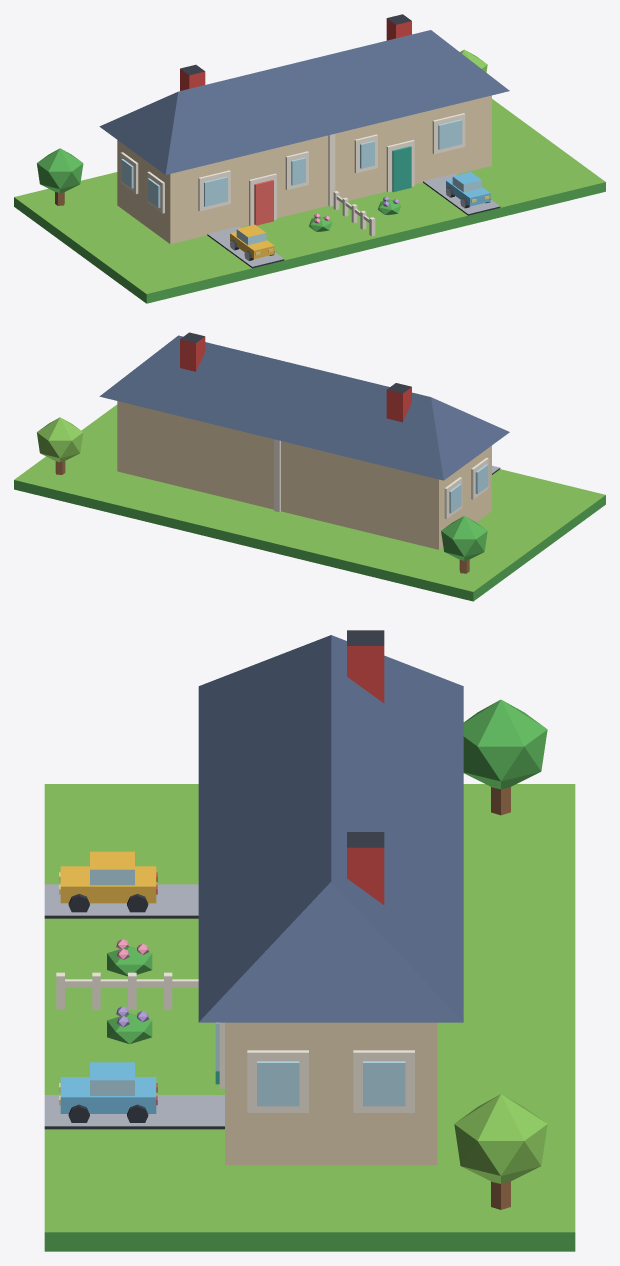
The model's file is house_duplex.glb.
The picture shows the model from 3 angles, top to bottom: view 1: azimuth 30°, elevation 25°; view 2: azimuth 150°, elevation 25°; view 3: azimuth 270°, elevation 25°; orthographic projection. The views are drawn at different scales.
Parts seen in each view (by area): view 1: house_duplex; view 2: house_duplex; view 3: house_duplex.
Part boxes in pixels (bbox=[...]): house_duplex: bbox=[14, 14, 605, 303]; house_duplex: bbox=[14, 332, 605, 601]; house_duplex: bbox=[44, 630, 575, 1251].
Size of the model in its own units: 2 by 0.6 by 1.
